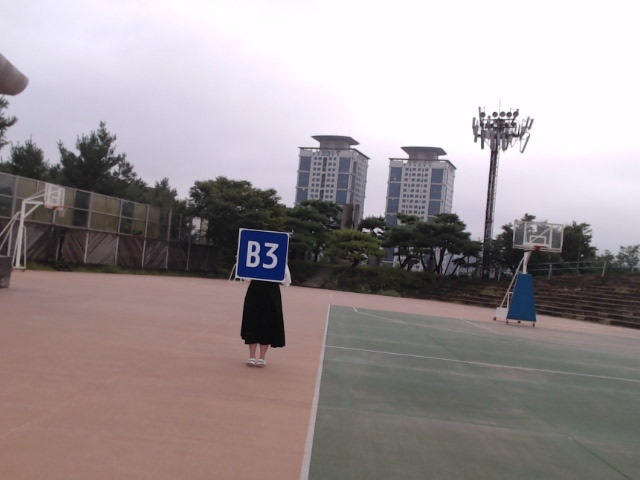delivery_b3: (236, 227, 290, 282)
